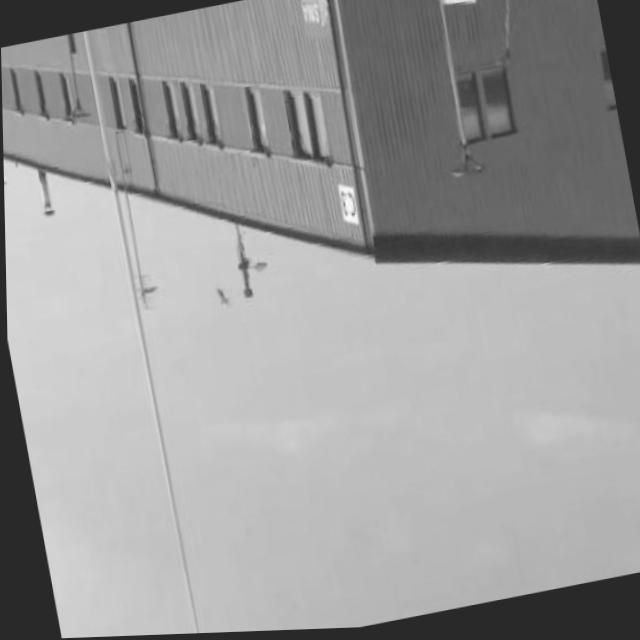helikopter: (203, 279, 235, 318)
